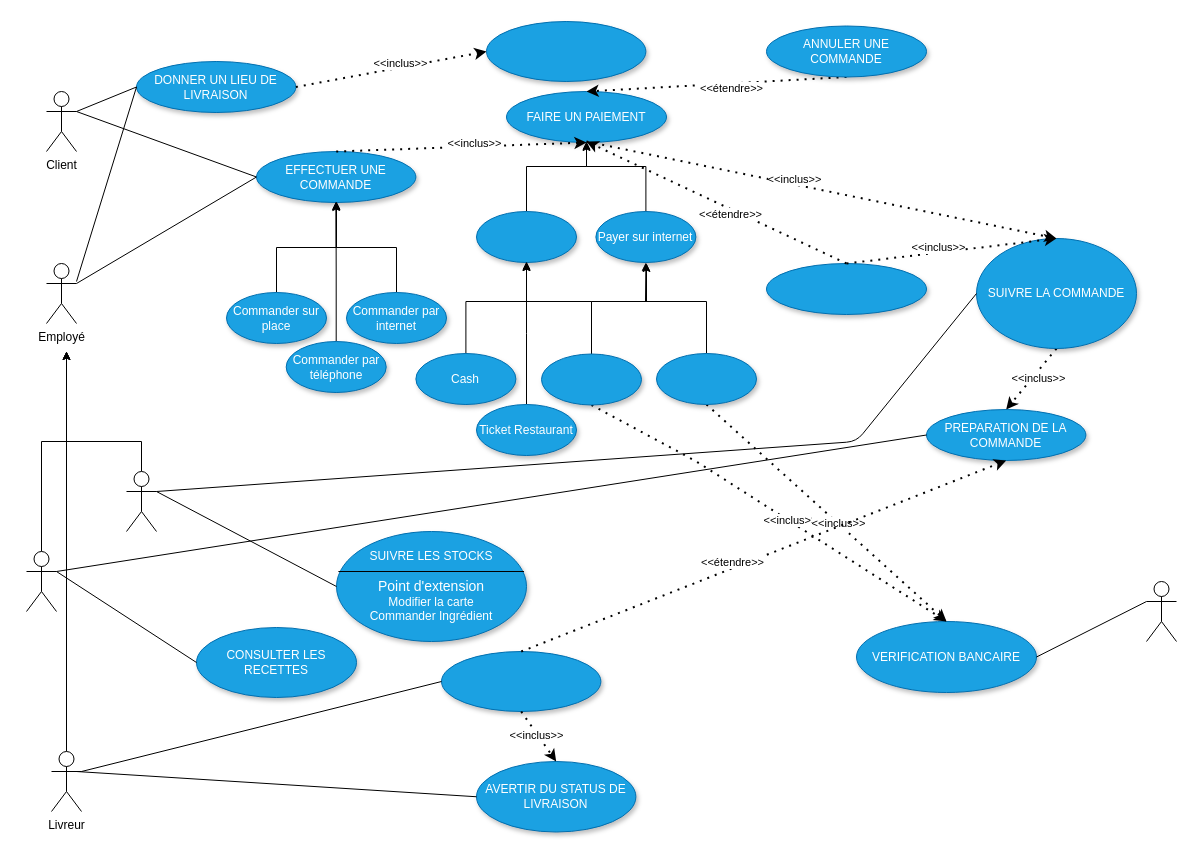
The diagram is 1199 pixels wide and 857 high, and some of its shapes have lost their labels. Each missing label, with the centre of its shape:
"Banque" goes at point (1161, 611).
"CB" goes at point (592, 380).
"LIVRAISON DE LA COMMANDE" goes at point (521, 682).
"MODIFIER UNE COMMANDE" goes at point (847, 290).
"Payer à la livraison" goes at point (527, 238).
"Paypal" goes at point (707, 380).
"Pizzaiolo" goes at point (41, 581).
"Responsable" goes at point (141, 501).
"TROUVE UN RESTAURANT" goes at point (567, 52).
